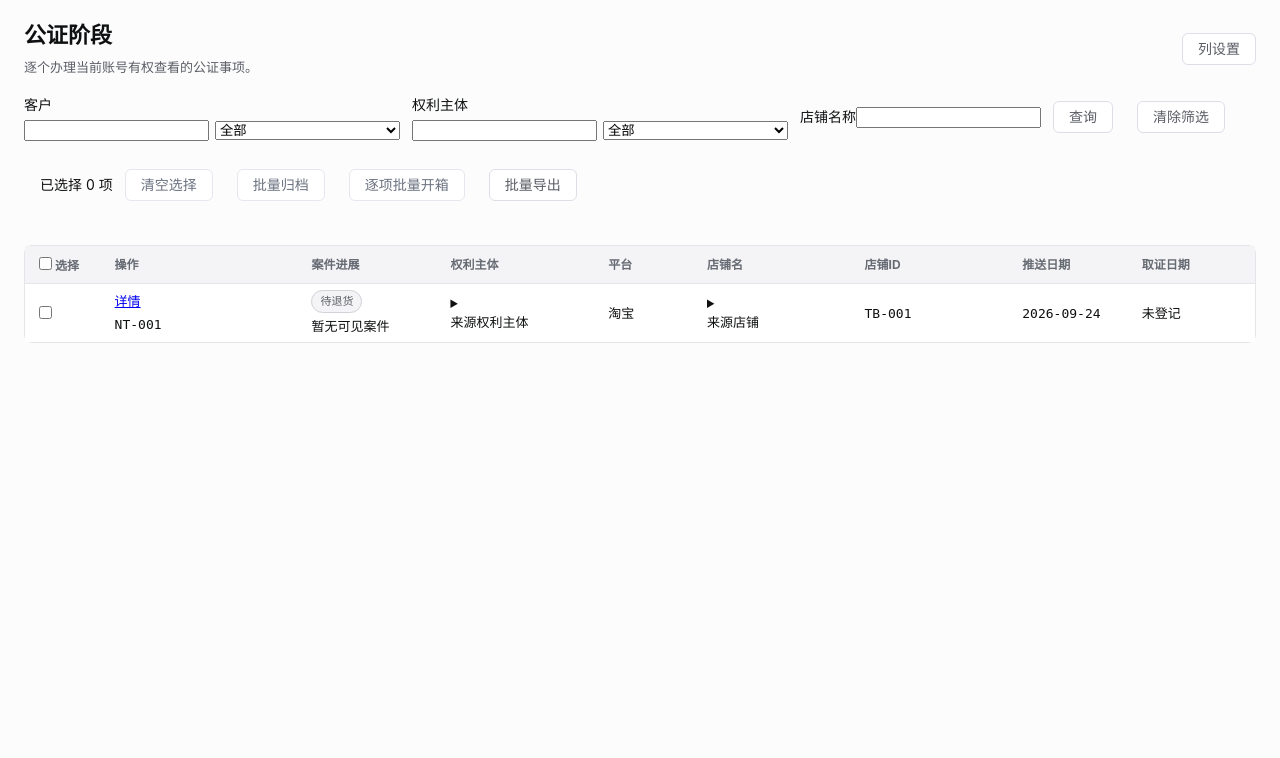
Test case: NotaryMatterListPage › opens the batch form for selected matters and refreshes the list after success
Click the checkbox with test id "select-matter" at (46, 312), box x1=39 y1=306 x2=52 y2=319
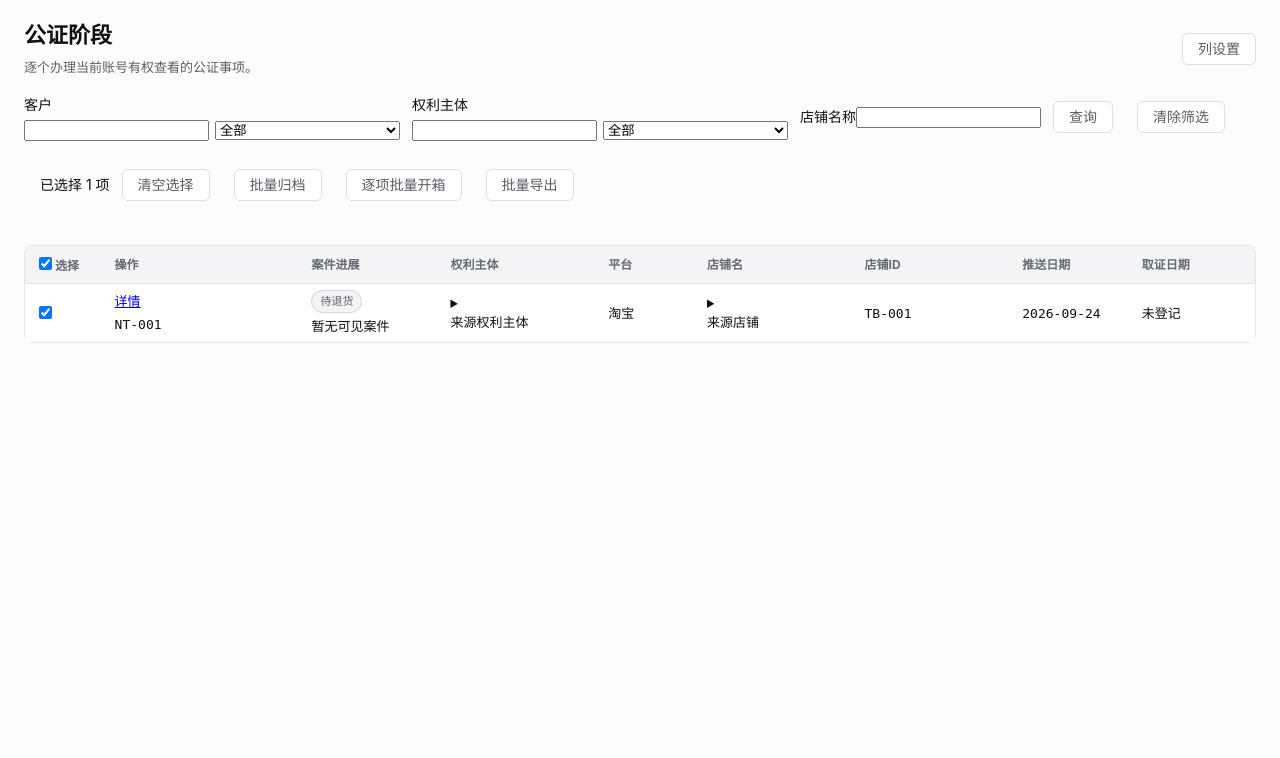
Click the button with test id "batch-archive-open" at (278, 185), box x1=234 y1=169 x2=322 y2=201
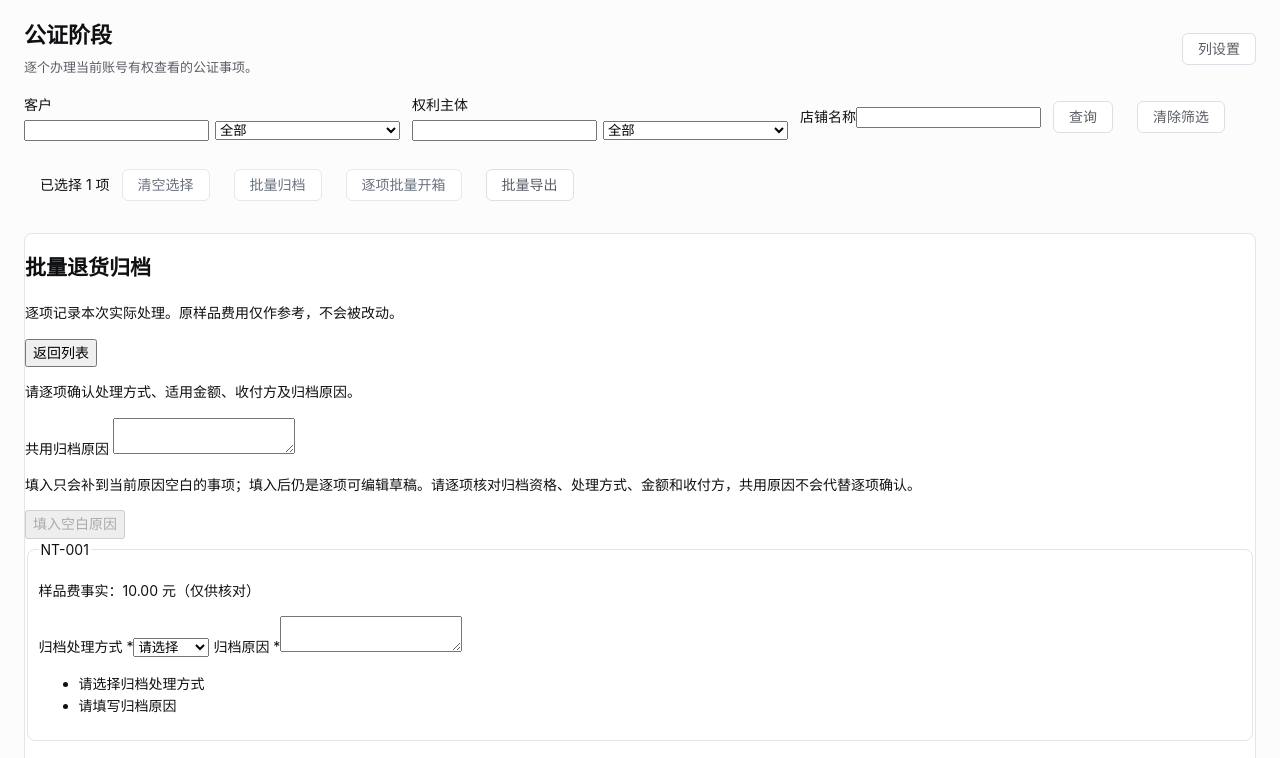
Check: the text "样品费事实：10.00 元" is shown, box x1=38 y1=582 x2=260 y2=599
Select "保留样品" in the dropdown with test id "choice-matter-1" at (172, 648), box x1=134 y1=638 x2=210 y2=657
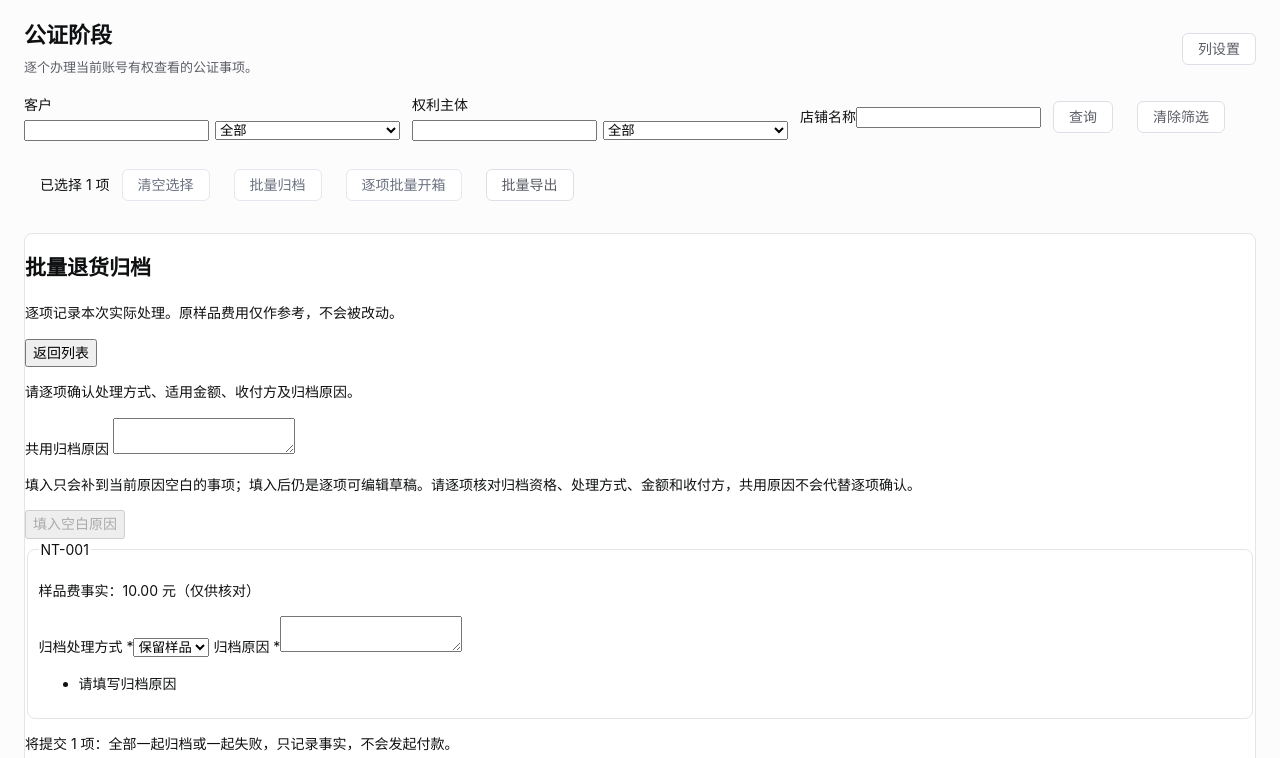
Type "完成退货处理" into the text box with test id "reason-matter-1" at (371, 634), box x1=280 y1=616 x2=462 y2=652
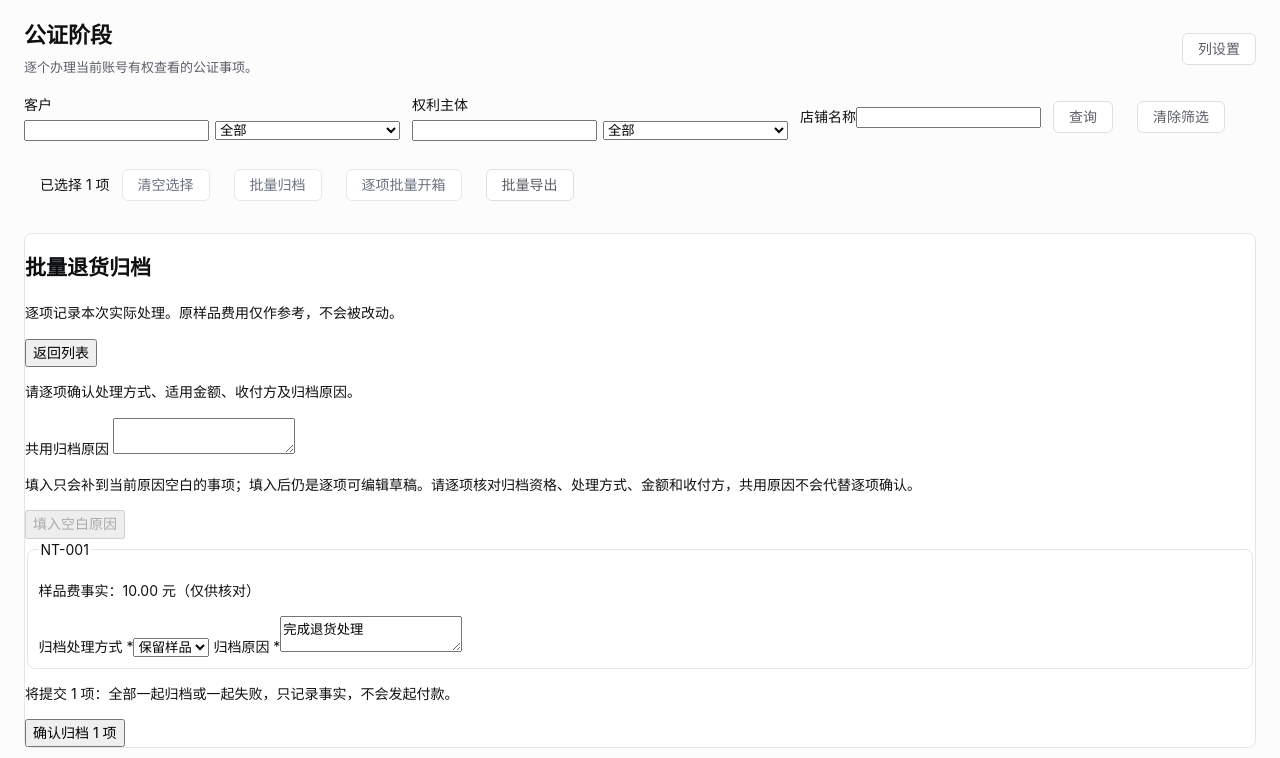
Submit the form that starts with "共用归档原因", box x1=25 y1=418 x2=1255 y2=747
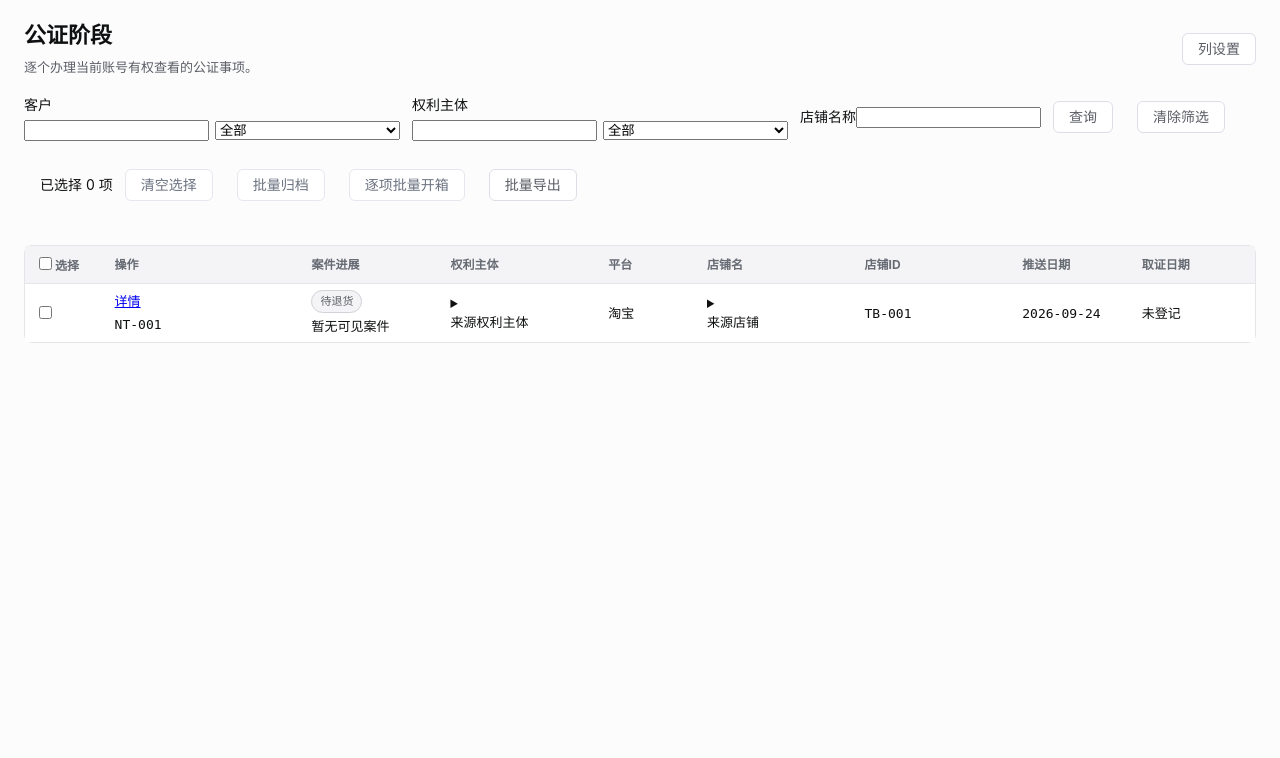
Check: the text with test id "selected-count" shows "0 项", box x1=40 y1=176 x2=113 y2=193
